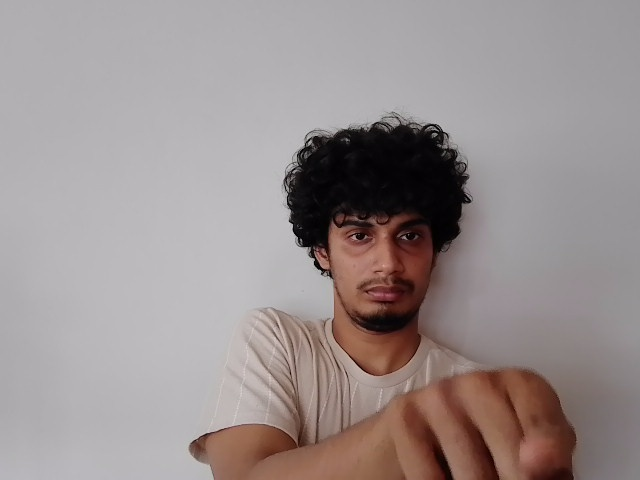you: (386, 367, 579, 480)
